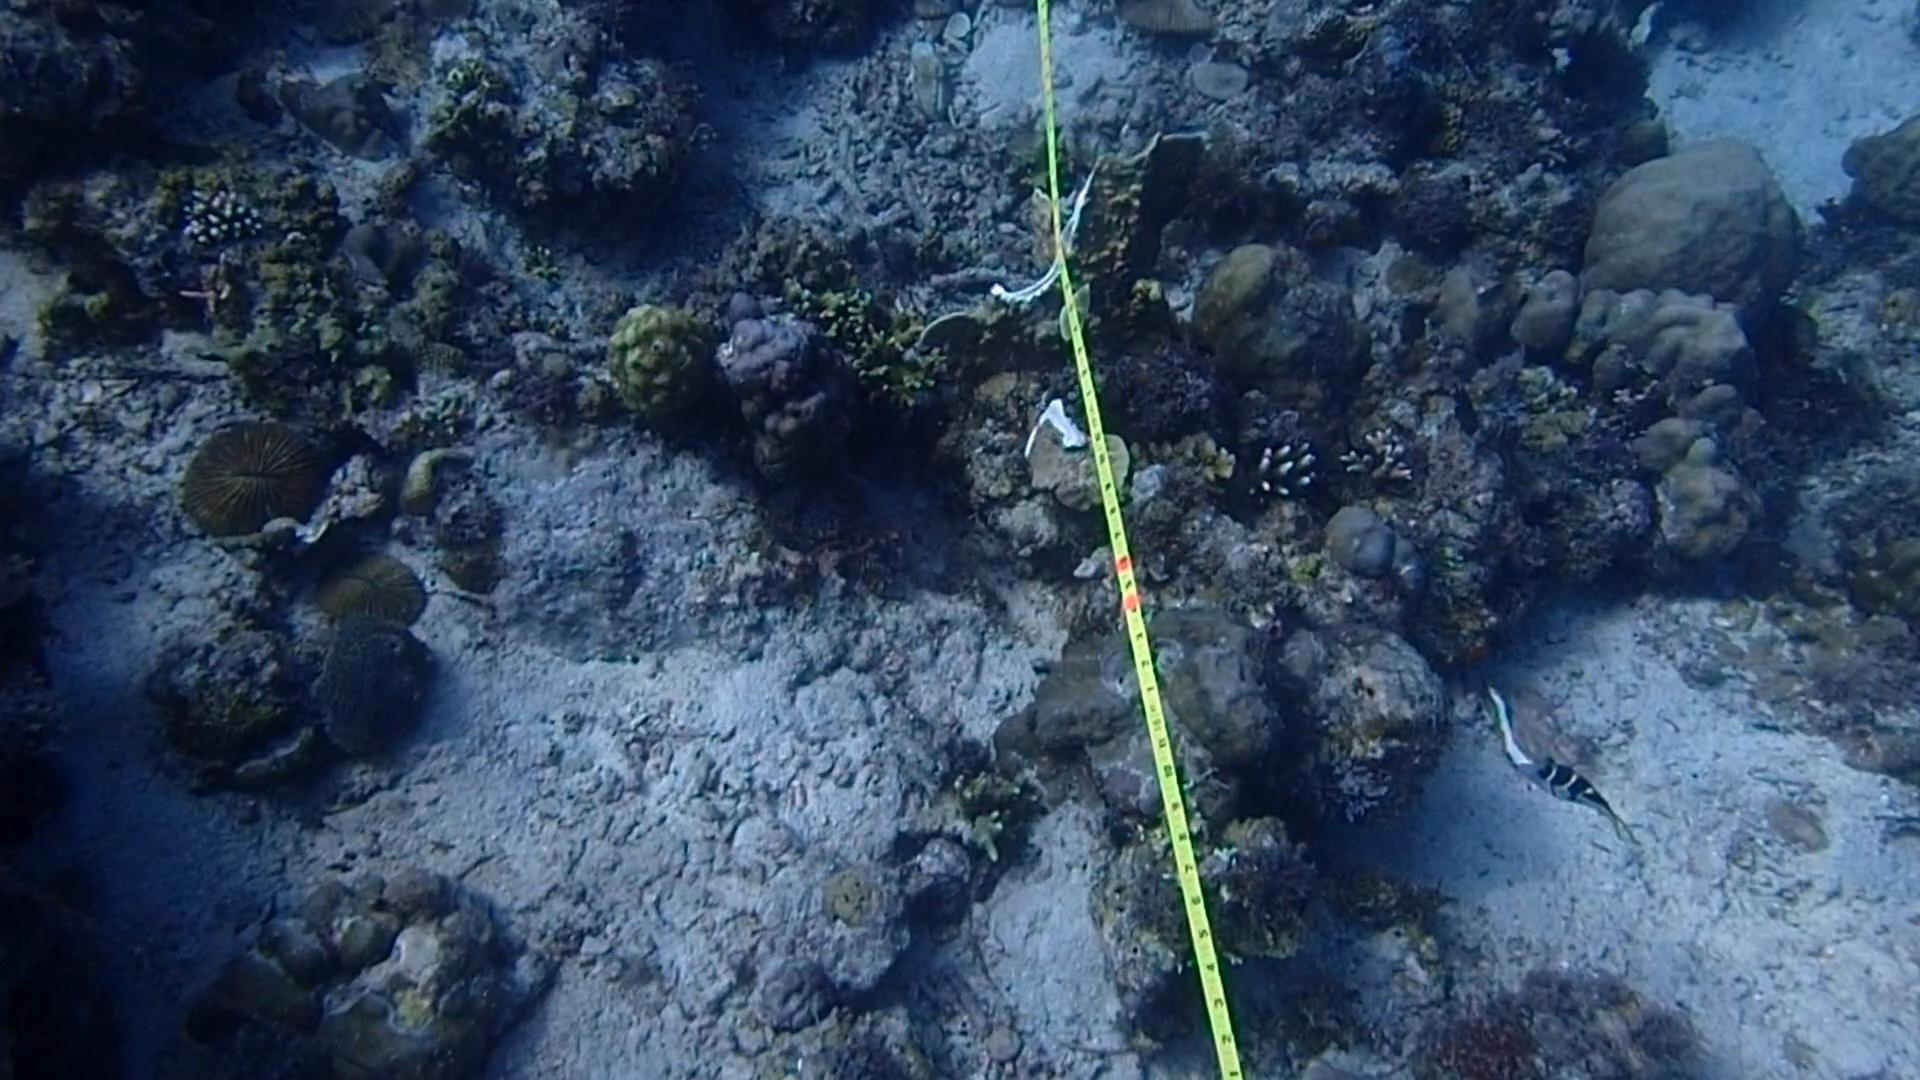Striped Fish: (1513, 736, 1627, 843)
